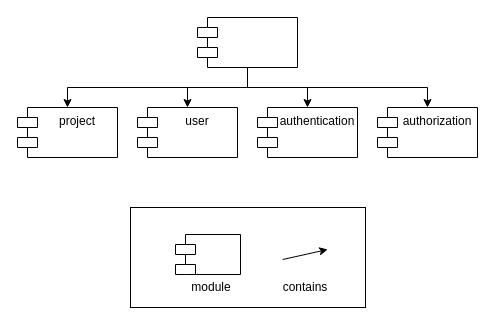
This 495x325 diagram has some shape labels left out. Each missing label, with the box of its shape:
Keys: (130, 206, 366, 308)
security: (196, 16, 298, 68)
